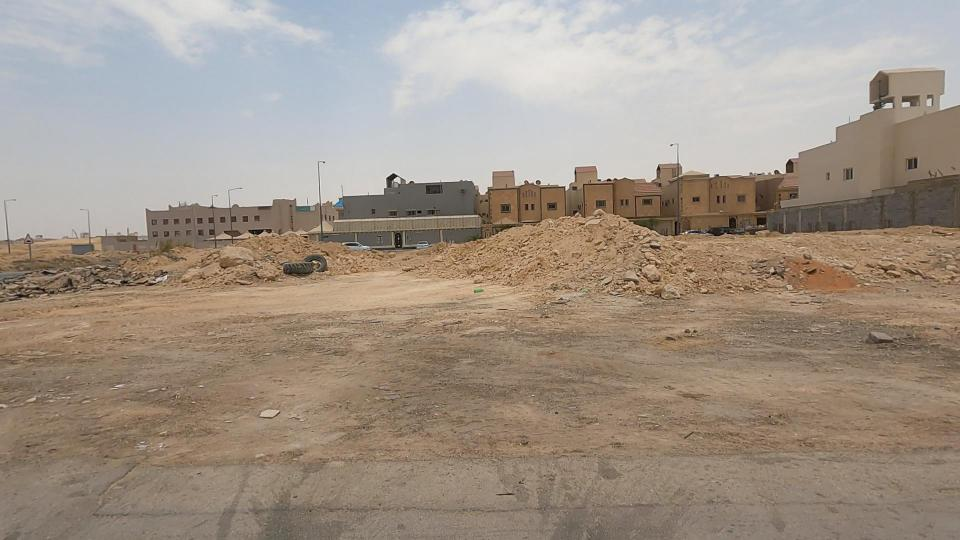GARBAGE: (244, 231, 370, 297), (222, 380, 322, 451), (115, 259, 182, 297)
